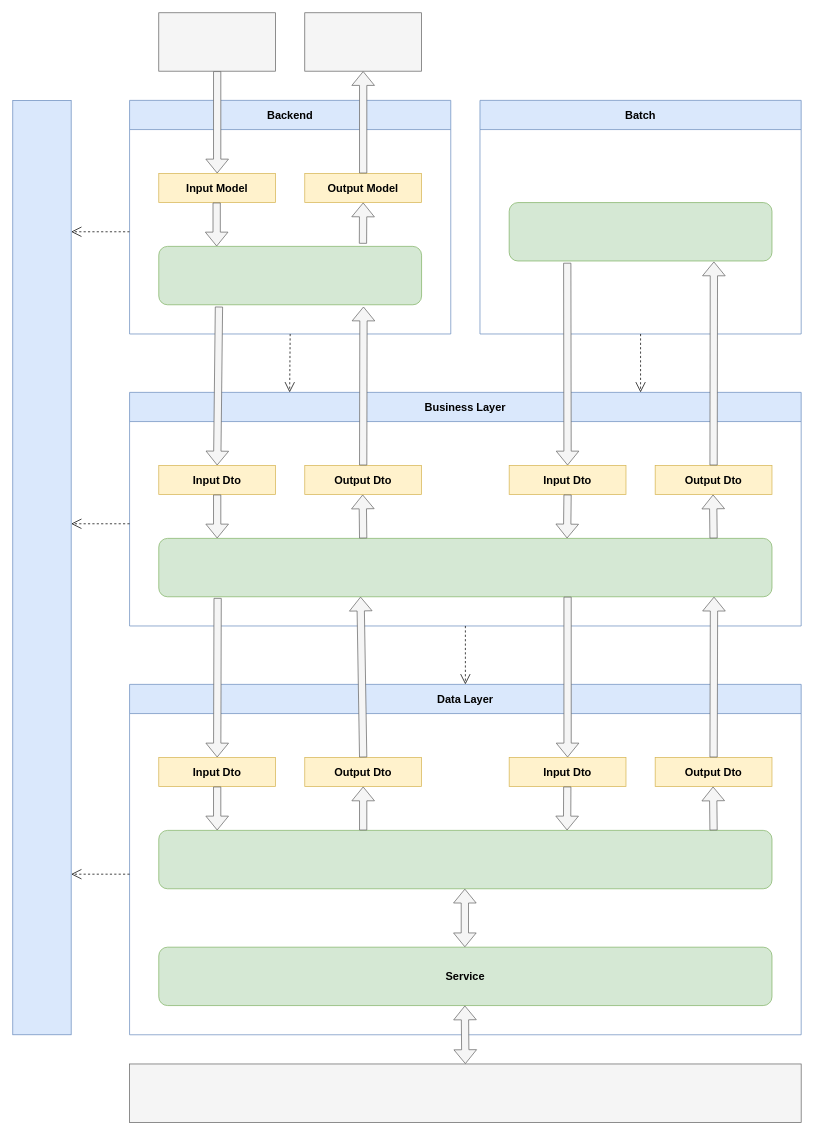
The diagram is 814 pixels wide and 1135 high, and some of its shapes have lost their labels. The centre of each missing label's shape, as x and y in pixels:
"Common" goes at (x=41, y=567).
"Controller" goes at (x=290, y=275).
"Database / File Sever / Redis / Http" goes at (x=465, y=1092).
"Logic" goes at (x=465, y=567).
"Repository" goes at (x=465, y=859).
"Request" goes at (x=217, y=41).
"Response" goes at (x=363, y=41).
"Runner" goes at (x=640, y=231).
